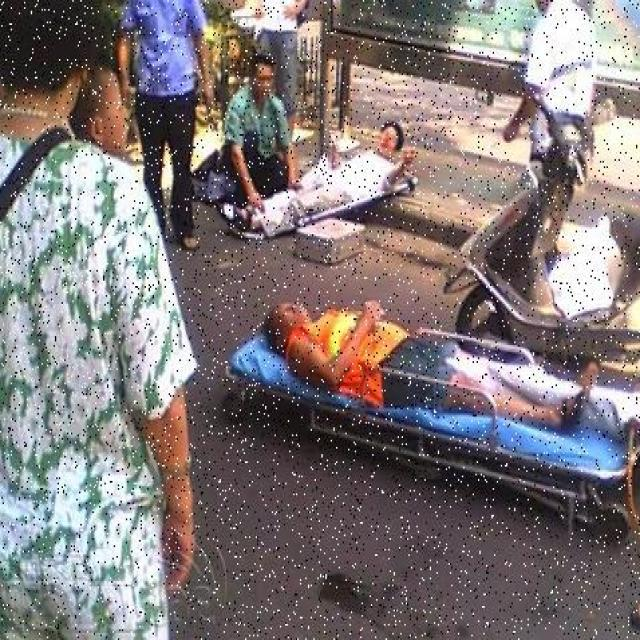fall: (264, 292, 573, 428), (240, 123, 410, 234)
